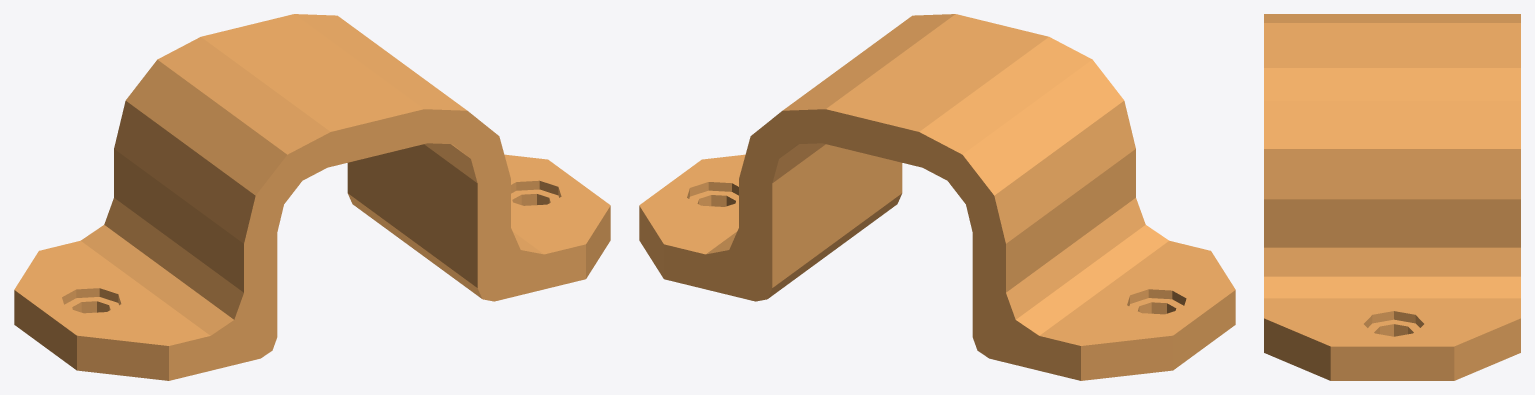
File: motor_clamp.glb
3 views of the same model, side by side, from view 1: azimuth 30°, elevation 25°; view 2: azimuth 150°, elevation 25°; view 3: azimuth 270°, elevation 25° (orthographic).
Parts seen in each view (by area): view 1: CATIA STL; view 2: CATIA STL; view 3: CATIA STL.
Part boxes in pixels (<box>): CATIA STL: <box>14,14,610,380</box>; CATIA STL: <box>639,14,1235,380</box>; CATIA STL: <box>1264,14,1520,380</box>.
Bounding box in the file's own units: 32 × 12 × 13.5.
